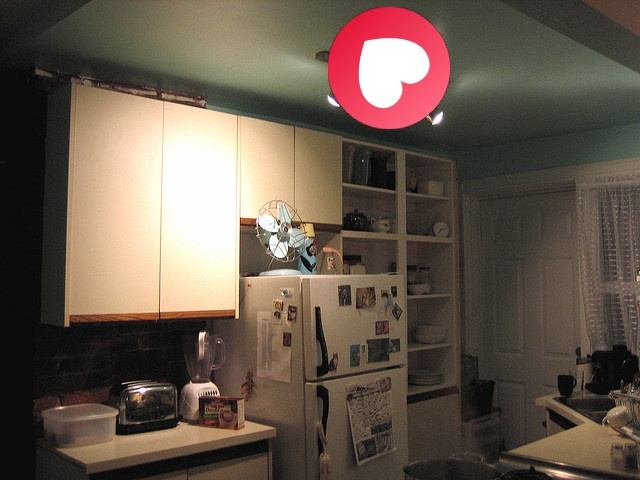love: (328, 7, 450, 129)
